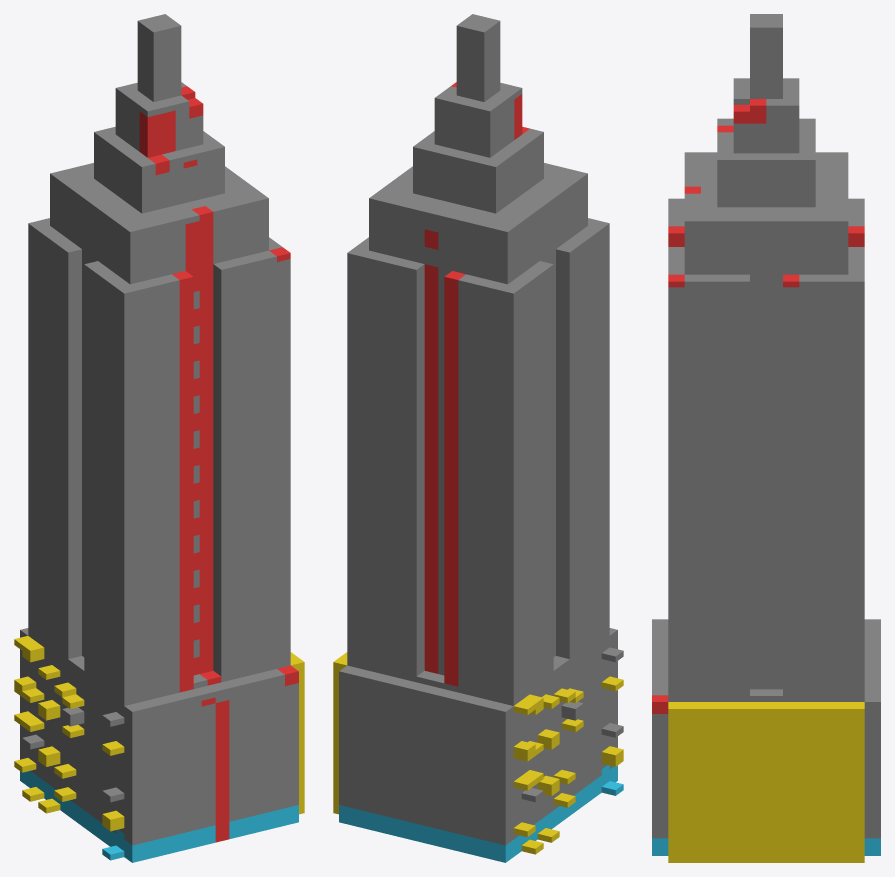
The model's file is placements_debug.obj.
3 renders of one model, left to right at view 1: azimuth 30°, elevation 25°; view 2: azimuth 150°, elevation 25°; view 3: azimuth 270°, elevation 25°, orthographic.
Parts seen in each view (by area): view 1: gray, red, yellow, cyan; view 2: gray, red, yellow, cyan; view 3: gray, yellow, red, cyan.
Part boxes in pixels (x1,y1,x2,y2): gray: (20, 14, 298, 845); red: (139, 86, 298, 842); yellow: (14, 636, 304, 831); cyan: (20, 771, 298, 862); gray: (339, 14, 623, 845); red: (424, 82, 529, 686); yellow: (333, 652, 623, 854); cyan: (339, 765, 623, 862); gray: (652, 14, 880, 838); yellow: (668, 702, 864, 862); red: (652, 99, 864, 713); cyan: (652, 838, 880, 855).
Size of the model in its own units: 92.26 by 353 by 92.26.
